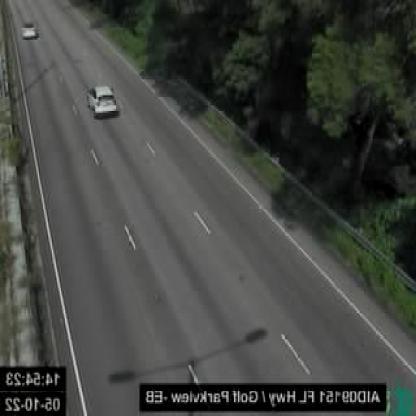Car: (84, 83, 119, 118), (21, 21, 39, 38)
